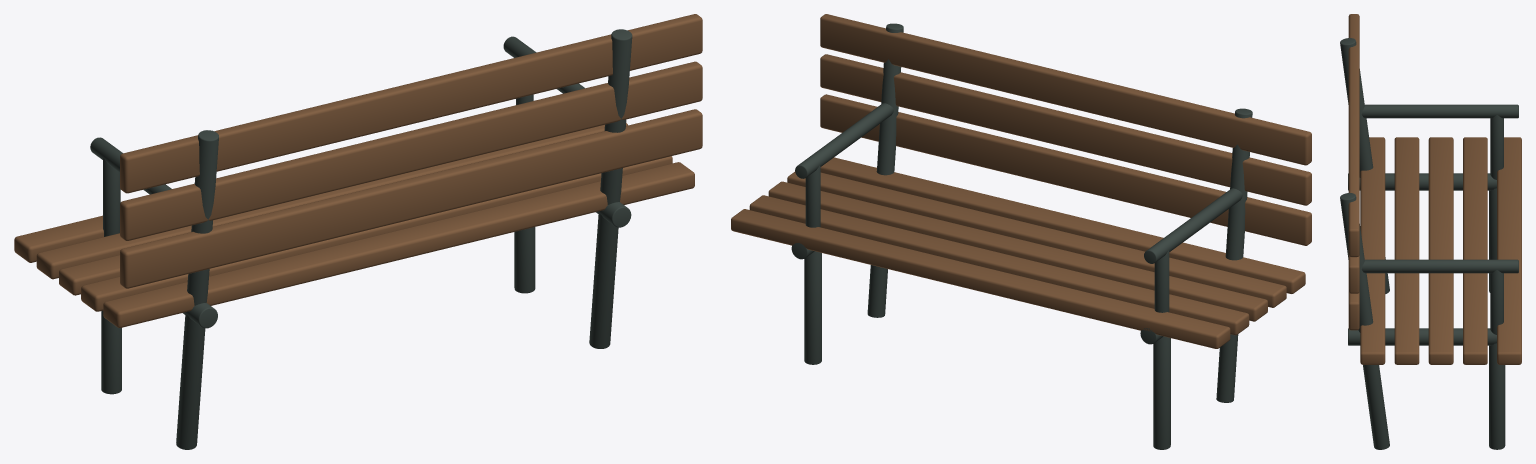
The model's file is park-bench.glb.
3 views of the same model, side by side, from view 1: azimuth 30°, elevation 25°; view 2: azimuth 150°, elevation 25°; view 3: azimuth 270°, elevation 25° (orthographic). The views are drawn at different scales.
Parts seen in each view (by area): view 1: Timber back slat, Timber back slat.001, Timber back slat.002, Timber seat slat.004, Timber seat slat.001, Timber seat slat.003, Rear support.001, Rear support, Timber seat slat, Front leg, Timber seat slat.002, Front leg.001 (+2 smaller); view 2: Timber back slat.002, Timber back slat.001, Timber back slat, Timber seat slat, Timber seat slat.001, Timber seat slat.002, Timber seat slat.003, Timber seat slat.004, Rear support, Rear support.001, Front leg, Front leg.001 (+4 smaller); view 3: Timber seat slat.002, Timber seat slat.003, Timber seat slat.001, Timber seat slat, Timber seat slat.004, Timber back slat.002, Rear support.001, Armrest, Armrest.001, Front leg.001, Rear support, Seat rail.001 (+6 smaller).
Part boxes in pixels (box(x1,y1,x2,y2)): Timber back slat: box(120, 109, 702, 288); Timber back slat.001: box(120, 61, 702, 240); Timber back slat.002: box(120, 14, 702, 193); Timber seat slat.004: box(103, 162, 694, 327); Timber seat slat.001: box(36, 123, 627, 279); Timber seat slat.003: box(81, 156, 672, 311); Rear support.001: box(589, 29, 632, 348); Rear support: box(176, 130, 218, 449); Timber seat slat: box(14, 215, 103, 262); Front leg: box(101, 310, 121, 394); Timber seat slat.002: box(59, 255, 119, 295); Front leg.001: box(514, 227, 535, 293); Timber back slat.002: box(820, 14, 1311, 165); Timber back slat.001: box(820, 54, 1311, 205); Timber back slat: box(820, 94, 1311, 245); Timber seat slat: box(731, 209, 1230, 348); Timber seat slat.001: box(749, 195, 1249, 335); Timber seat slat.002: box(768, 181, 1267, 321); Timber seat slat.003: box(787, 171, 1286, 307); Timber seat slat.004: box(820, 157, 1305, 293); Rear support: box(1216, 108, 1252, 402); Rear support.001: box(867, 23, 903, 317); Front leg: box(1153, 336, 1170, 449); Front leg.001: box(804, 251, 821, 364); Timber seat slat.002: box(1428, 137, 1453, 364); Timber seat slat.003: box(1394, 137, 1419, 364); Timber seat slat.001: box(1463, 137, 1487, 364); Timber seat slat: box(1497, 137, 1521, 364); Timber seat slat.004: box(1360, 137, 1385, 364); Timber back slat.002: box(1348, 14, 1359, 257); Rear support.001: box(1340, 193, 1389, 449); Armrest: box(1361, 104, 1518, 118); Armrest.001: box(1361, 259, 1518, 273); Front leg.001: box(1489, 343, 1505, 449); Rear support: box(1340, 38, 1389, 293); Seat rail.001: box(1348, 328, 1496, 345).
Bounding box in the file's own units: 1.65 × 0.8956 × 0.5854.
